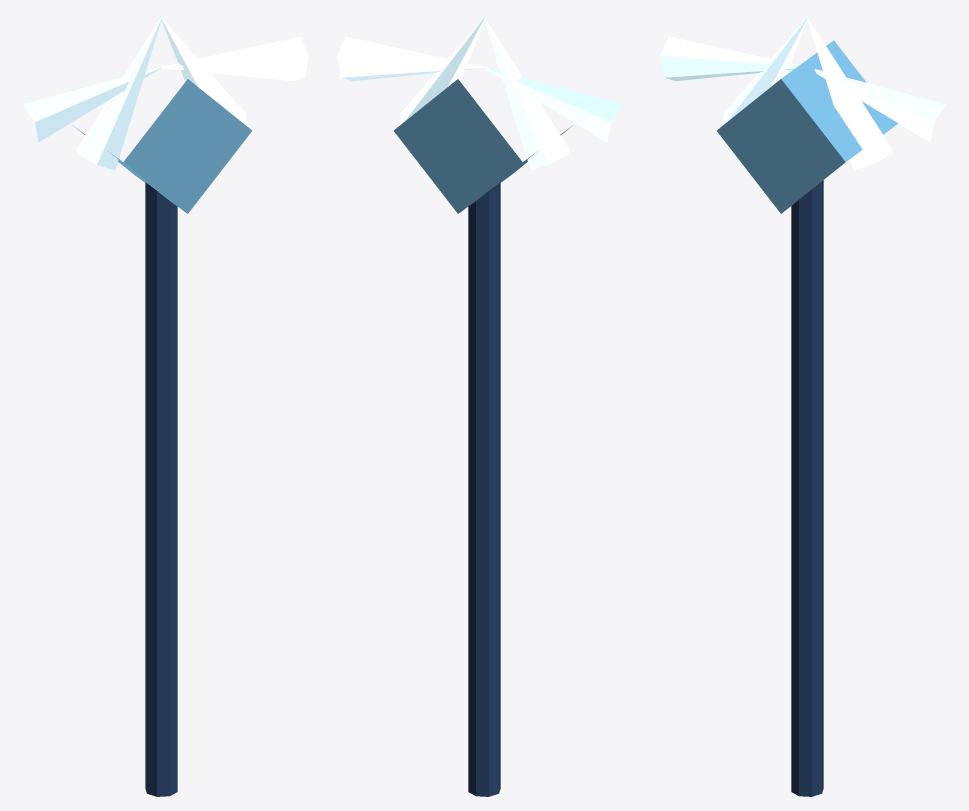
The model's file is lich.glb.
3 renders of one model, left to right at view 1: azimuth 30°, elevation 25°; view 2: azimuth 150°, elevation 25°; view 3: azimuth 330°, elevation 25°, orthographic.
Parts seen in each view (by area): view 1: lich-shaft, lich-head-gem, lich-shard-0.5, lich-shard1.4, lich-shard-1.4, lich-shard0.5; view 2: lich-shaft, lich-head-gem, lich-shard-0.5, lich-shard1.4, lich-shard-1.4, lich-shard0.5; view 3: lich-shaft, lich-head-gem, lich-shard-1.4, lich-shard0.5, lich-shard1.4, lich-shard-0.5.
Part boxes in pixels (x1,y1,x2,y2): lich-shaft: (145,182,177,796); lich-head-gem: (72,79,252,213); lich-shard-0.5: (76,15,162,170); lich-shard1.4: (158,36,308,81); lich-shard-1.4: (23,66,164,142); lich-shard0.5: (160,16,246,125); lich-shaft: (468,182,500,796); lich-head-gem: (393,79,573,213); lich-shard-0.5: (483,15,569,170); lich-shard1.4: (337,36,487,81); lich-shard-1.4: (481,66,622,142); lich-shard0.5: (399,16,485,125); lich-shaft: (791,180,823,796); lich-head-gem: (716,40,898,213); lich-shard-1.4: (660,36,799,81); lich-shard0.5: (806,15,892,170); lich-shard1.4: (814,69,945,142); lich-shard-0.5: (722,16,808,125).
Size of the model in its own units: 0.6674 by 1.78 by 0.22.
